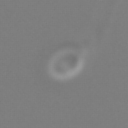normal: (82, 1, 128, 54)
